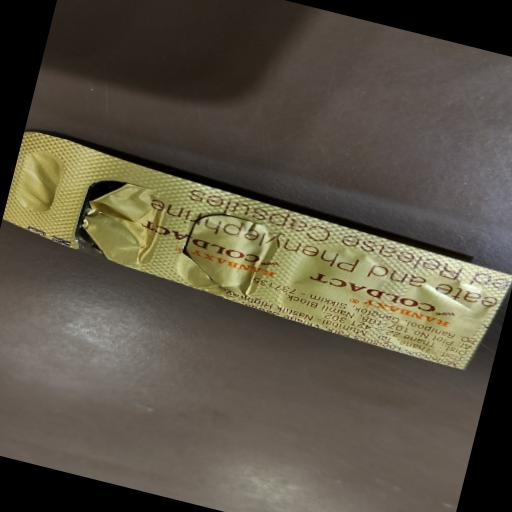coldact: (126, 212, 272, 278), (300, 266, 438, 320)
medicine: (31, 147, 498, 366)
